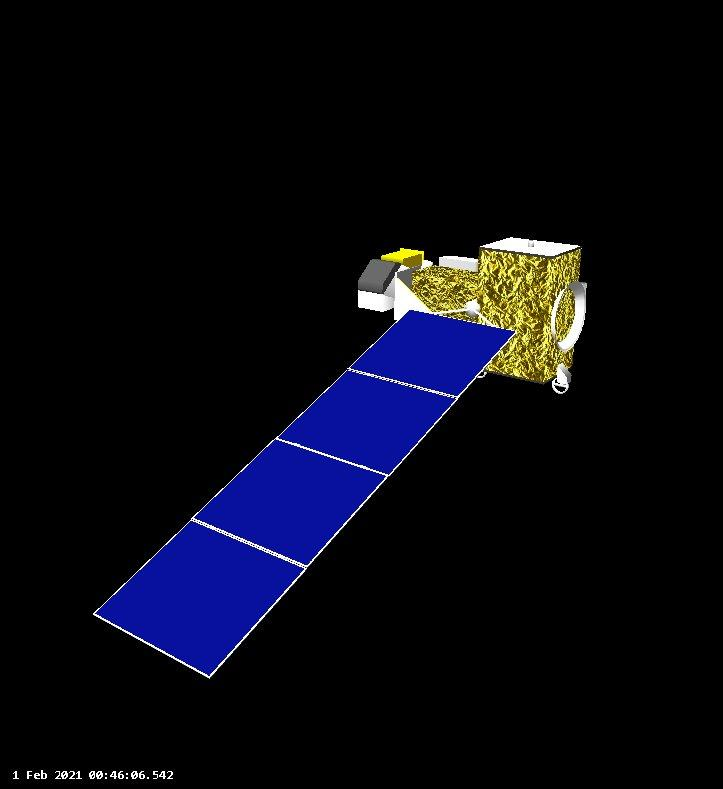antenna: (548, 374, 573, 394)
body: (354, 232, 587, 383)
solar: (89, 308, 516, 680)
